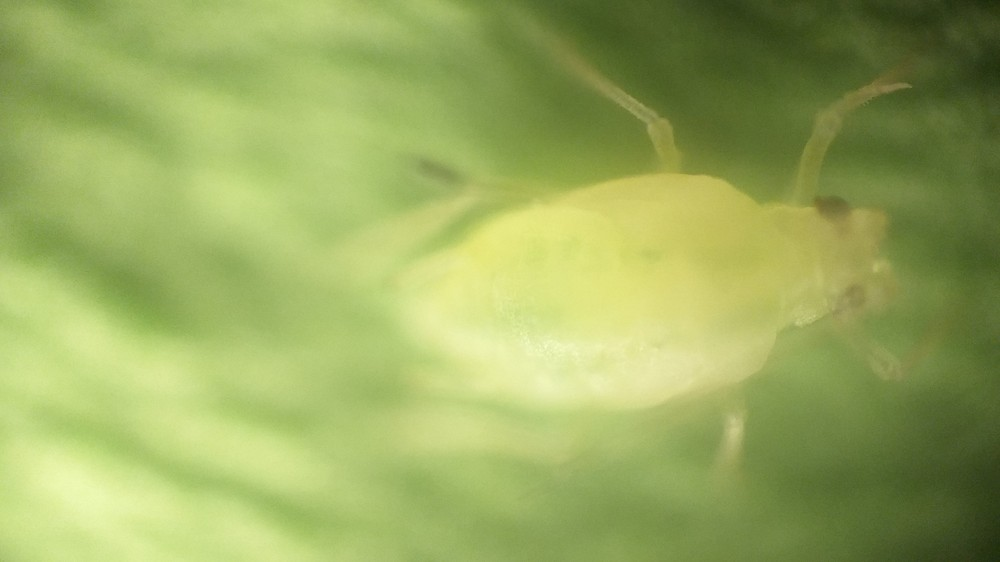Pulgon: (316, 29, 991, 545)
